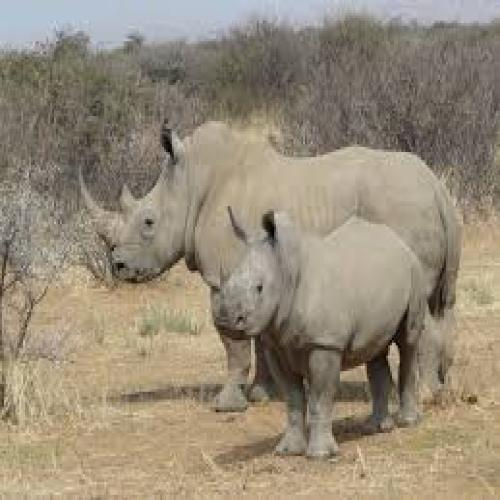rhino-endangered: (74, 114, 468, 291), (202, 203, 428, 460)
